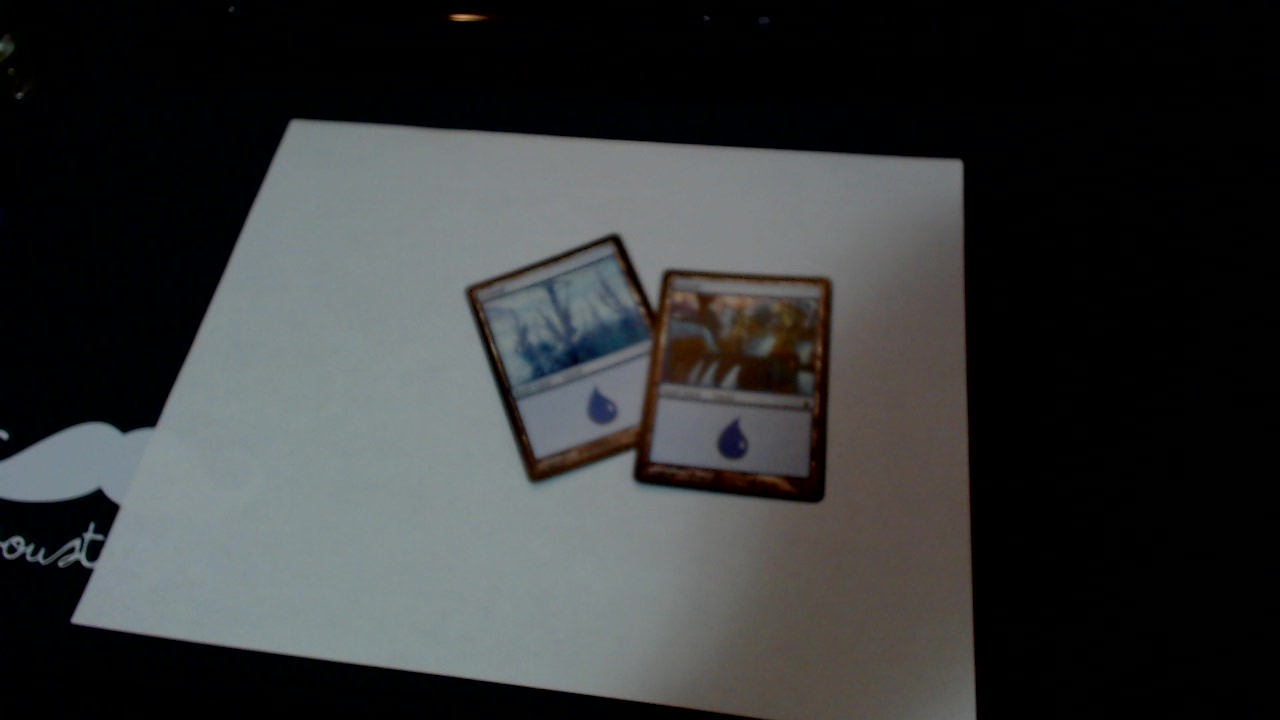MTG Card: (461, 226, 675, 489), (624, 266, 843, 508)
